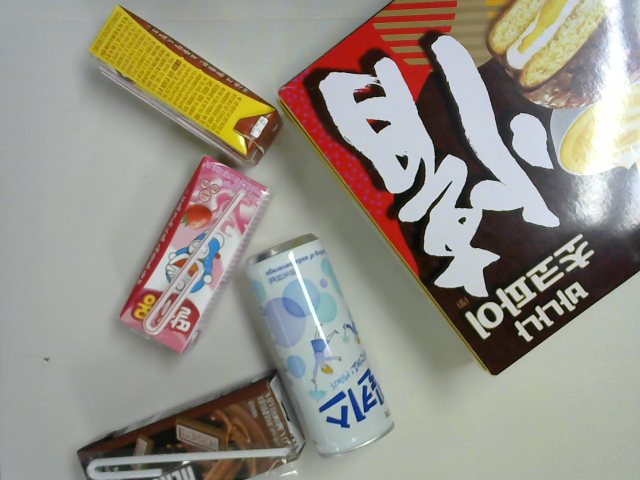Choco_E_Mong: (87, 4, 285, 169)
Choco_Pie_Banana: (280, 1, 640, 376)
Hush_Choco_Drink: (76, 371, 307, 480)
Milkies_250ml: (245, 234, 397, 457)
Strawberry_E_Mong: (117, 156, 272, 354)
